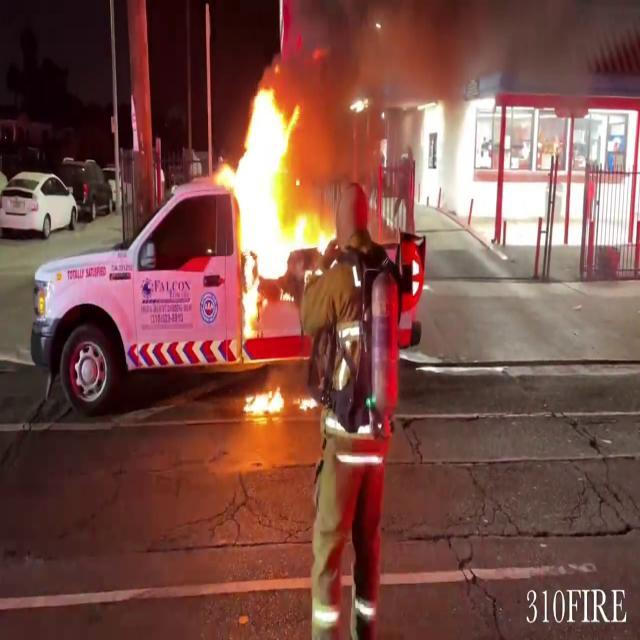Fire: (215, 78, 329, 338), (240, 378, 288, 424)
Smoke: (281, 0, 521, 181)
